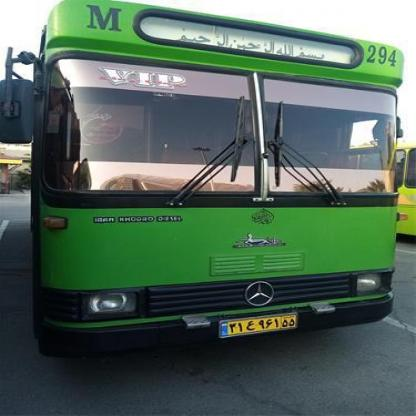Bus: (0, 8, 408, 349)
